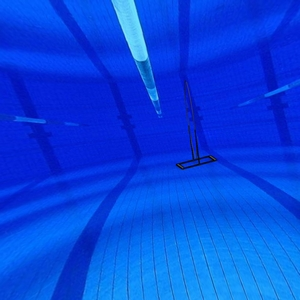circle: (174, 79, 219, 171)
